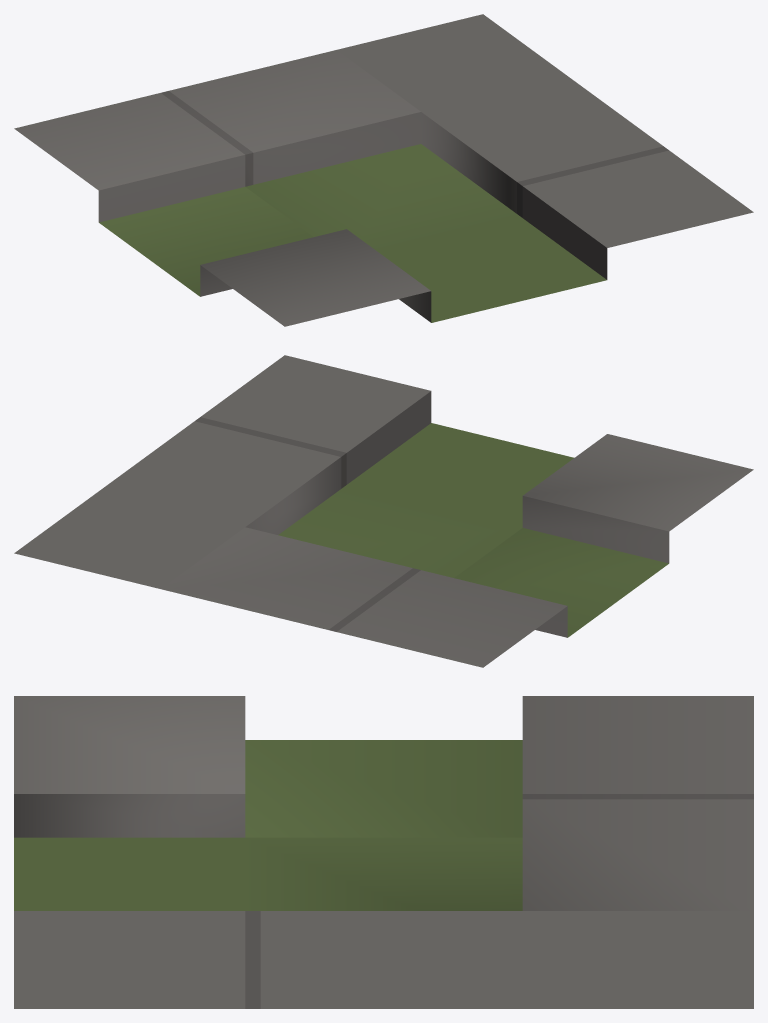
File: AI_Env_Sewer_Floor_Corner.fbx
The picture shows the model from 3 angles, top to bottom: view 1: azimuth 30°, elevation 25°; view 2: azimuth 150°, elevation 25°; view 3: azimuth 270°, elevation 25°; orthographic projection. The views are drawn at different scales.
Parts seen in each view (by area): view 1: AI_Env_Sewer_Floor_Corner; view 2: AI_Env_Sewer_Floor_Corner; view 3: AI_Env_Sewer_Floor_Corner.
Part boxes in pixels (x1,y1,x2,y2): AI_Env_Sewer_Floor_Corner: (14,14,753,326); AI_Env_Sewer_Floor_Corner: (14,355,753,667); AI_Env_Sewer_Floor_Corner: (14,696,753,1008).
Size of the model in its own units: 5 by 0.3261 by 5.
